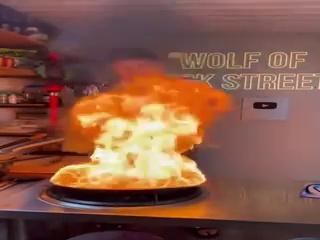Fire: (48, 83, 225, 184)
